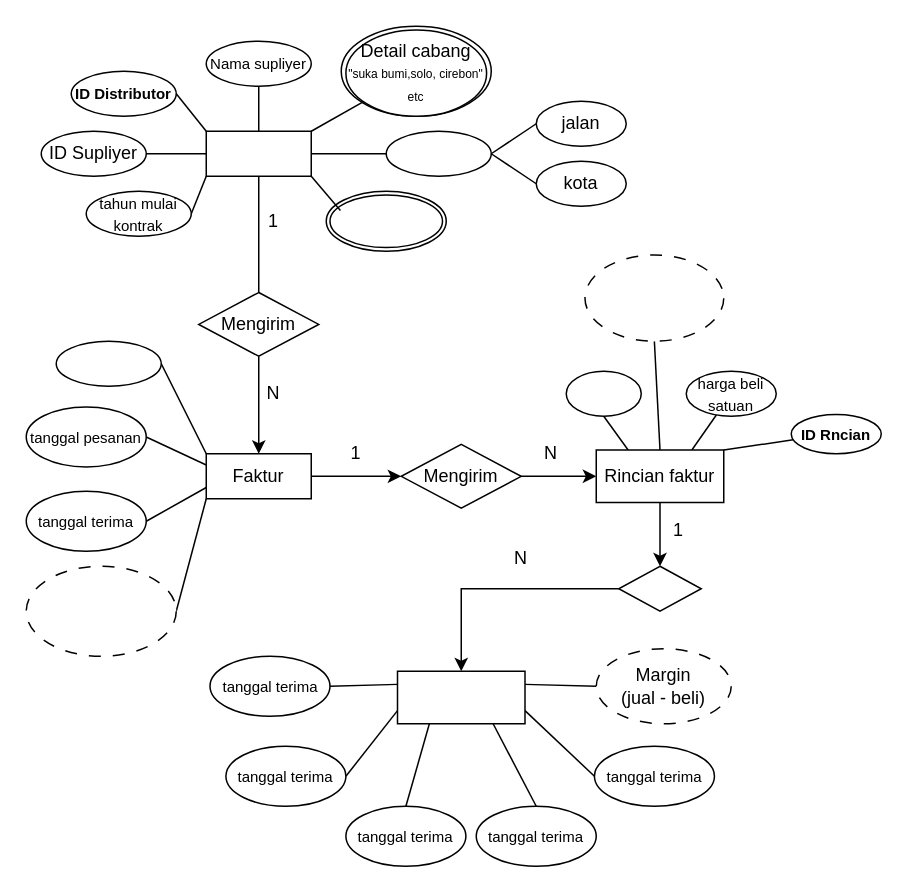
This 908x893 diagram has some shape labels left out. Each missing label, with the box of its shape:
Alamat gudang: (385, 130, 491, 176)
Barang: (396, 670, 525, 724)
Distributor: (205, 130, 311, 176)
Jumlah: (565, 370, 641, 416)
lama proses (terima pesan): (25, 565, 176, 656)
NO faktur: (55, 340, 161, 386)
nomor kontak: (328, 194, 442, 248)
Subtotal "jumlah x harga beli satuan: (584, 254, 724, 341)
untuk: (617, 565, 701, 611)
